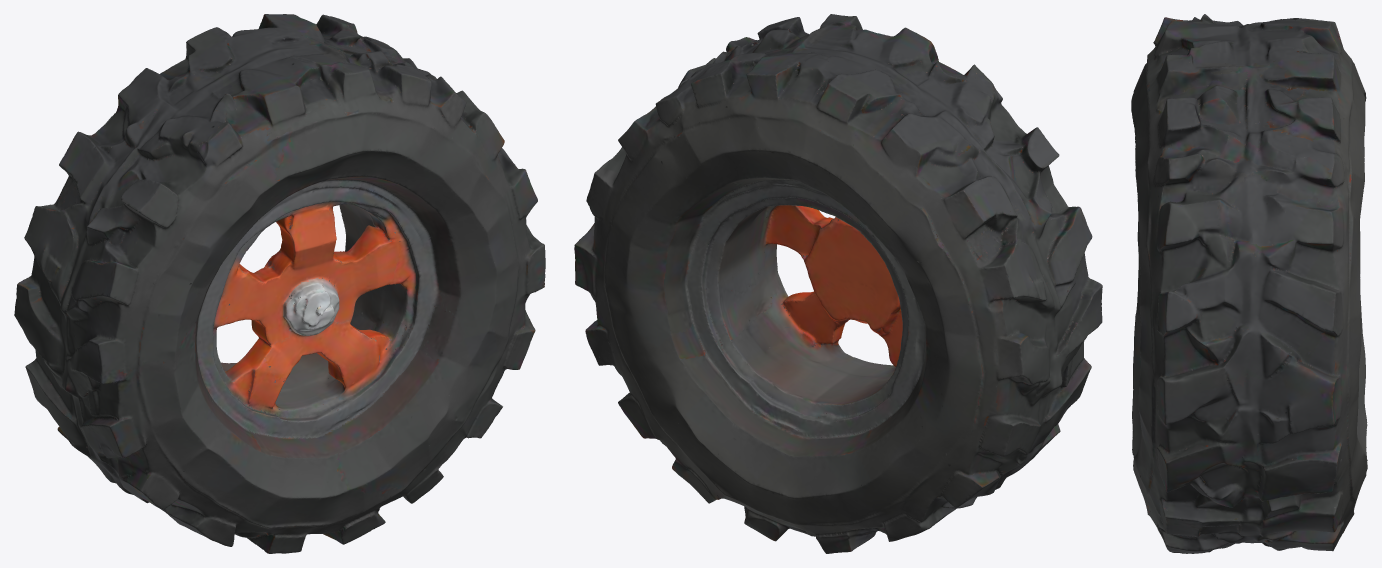
Rendered from chunky-tire.glb.
3 renders of one model, left to right at view 1: azimuth 30°, elevation 25°; view 2: azimuth 150°, elevation 25°; view 3: azimuth 270°, elevation 25°, orthographic. The views are drawn at different scales.
Bounding box in the file's own units: 2 × 2 × 0.8758.
1 material, 1 textured.
